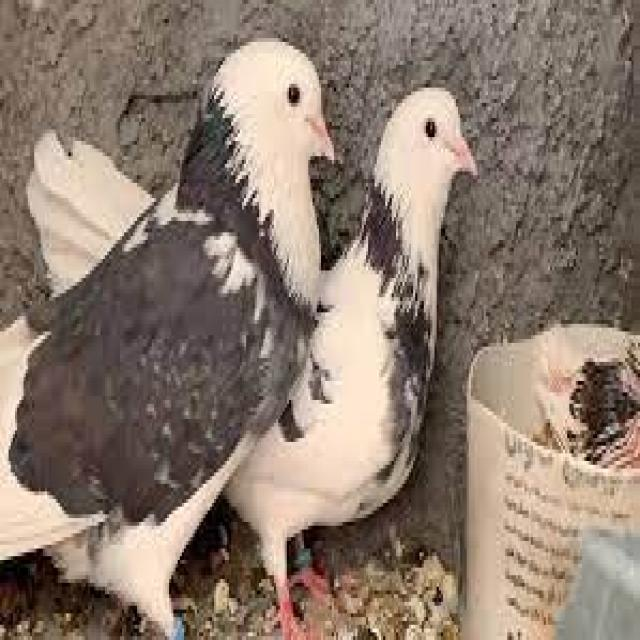bird: (0, 37, 336, 640), (307, 66, 477, 560)
